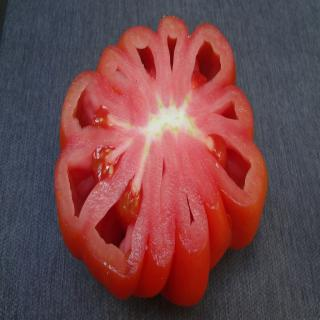tomato: (54, 14, 268, 308)
